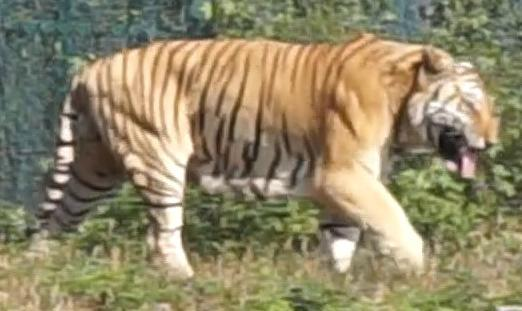tiger: (38, 34, 499, 277)
